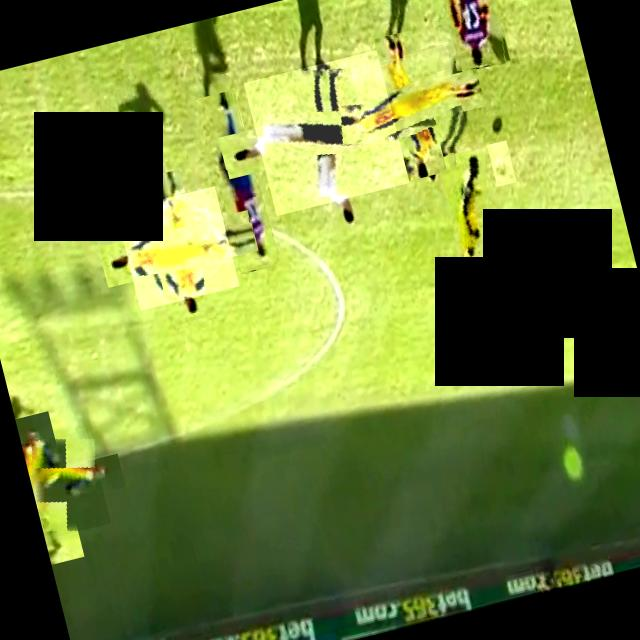ball: (486, 140, 516, 187)
referee: (243, 49, 410, 216)
soccer-player: (196, 89, 280, 274), (116, 186, 240, 310), (350, 44, 470, 164), (430, 147, 511, 295), (21, 428, 110, 540), (433, 0, 514, 73)
